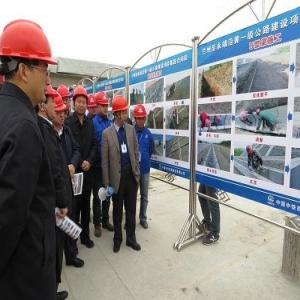red: (4, 18, 53, 104), (39, 84, 57, 122), (110, 95, 131, 127), (74, 86, 89, 117), (53, 91, 65, 127), (58, 84, 72, 113), (133, 104, 148, 130), (96, 92, 110, 119), (86, 93, 99, 117)
